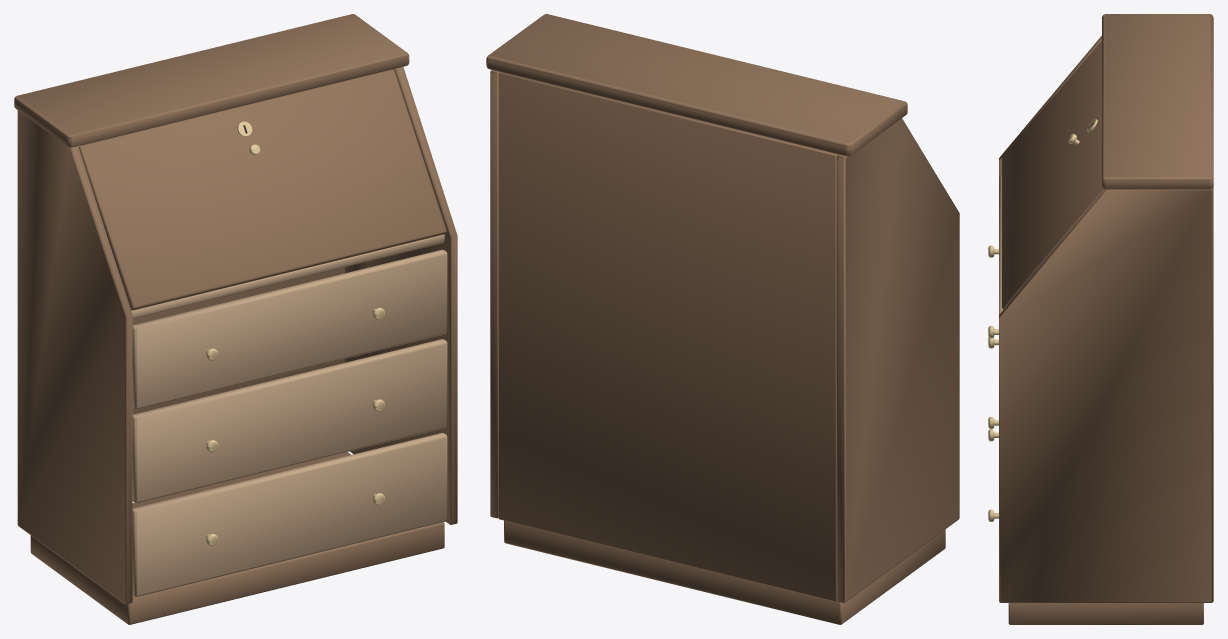
Rendered from KurodaHome_FillBureau.fbx.
3 renders of one model, left to right at view 1: azimuth 30°, elevation 25°; view 2: azimuth 150°, elevation 25°; view 3: azimuth 270°, elevation 25°, orthographic. The views are drawn at different scales.
Parts seen in each view (by area): view 1: KurodaFill_Body, KurodaFill_Flap; view 2: KurodaFill_Body; view 3: KurodaFill_Body, KurodaFill_Flap.
Boxes of the visible parts, x1,y1,x2,y2 form: KurodaFill_Body: (14,14,457,624); KurodaFill_Flap: (78,69,446,310); KurodaFill_Body: (486,14,959,624); KurodaFill_Body: (988,14,1213,624); KurodaFill_Flap: (1002,41,1104,309).
Bounding box in the file's own units: 0.82 × 1.05 × 0.472.
